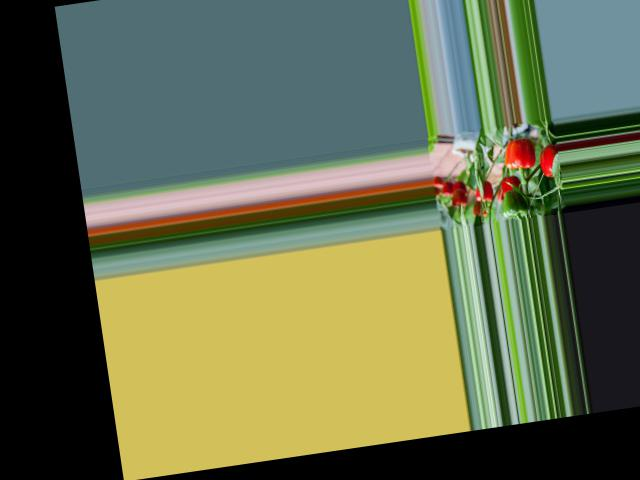bell_pepper: (471, 174, 495, 208)
